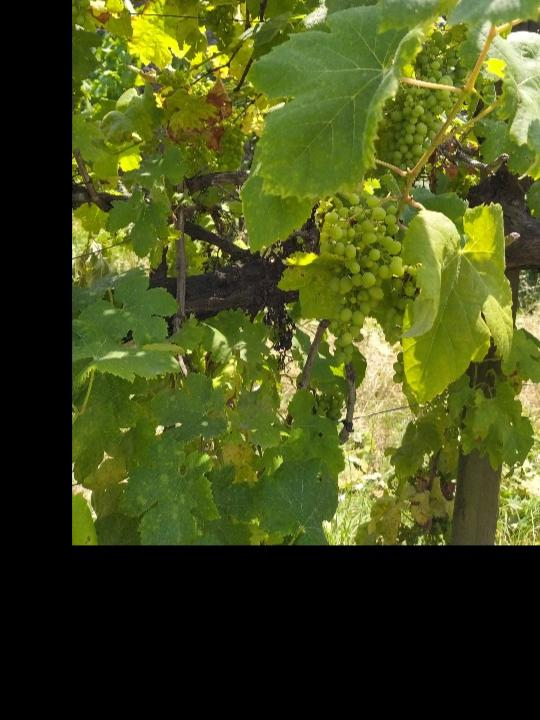grape: (319, 190, 406, 368), (379, 27, 470, 179)
